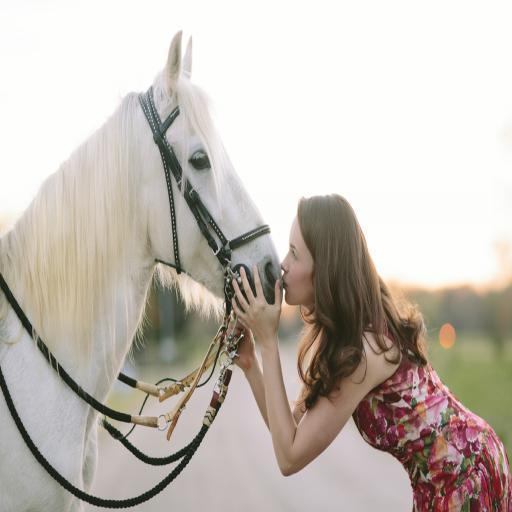horse: (0, 31, 284, 512)
